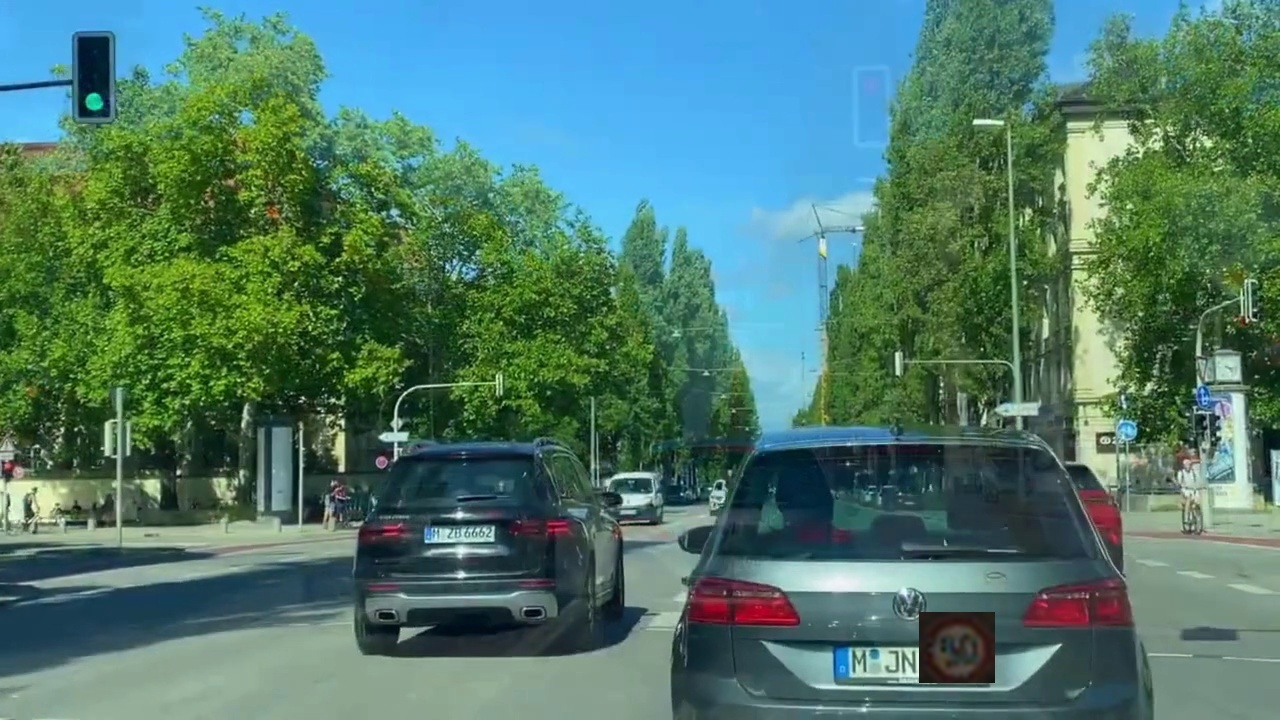Speed 50: (919, 612, 995, 683)
